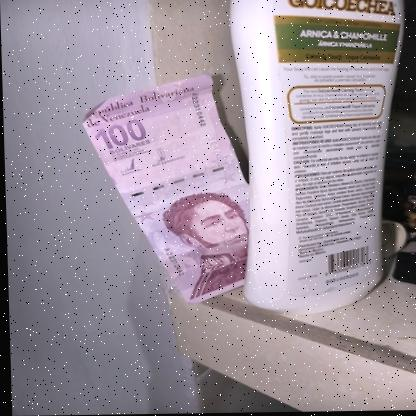one_hundred-front-vef: (79, 72, 252, 308)
